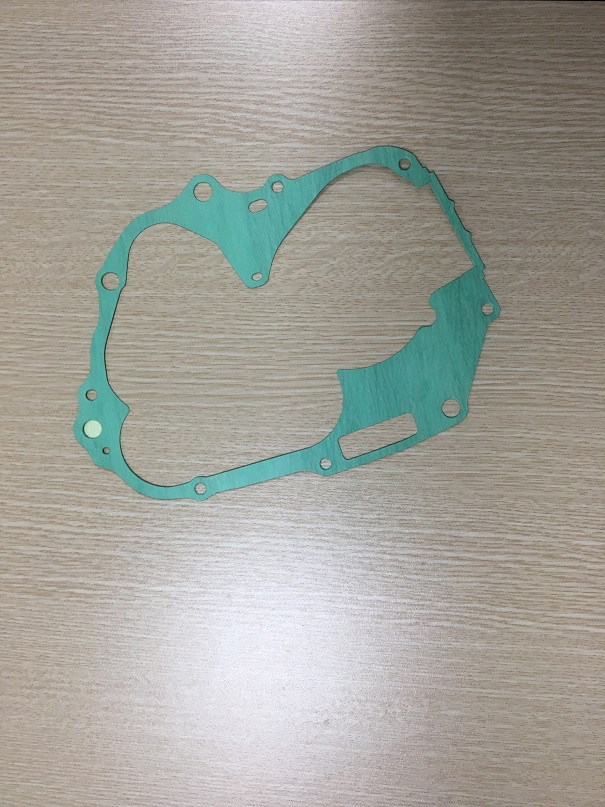type3: (76, 133, 516, 499)
